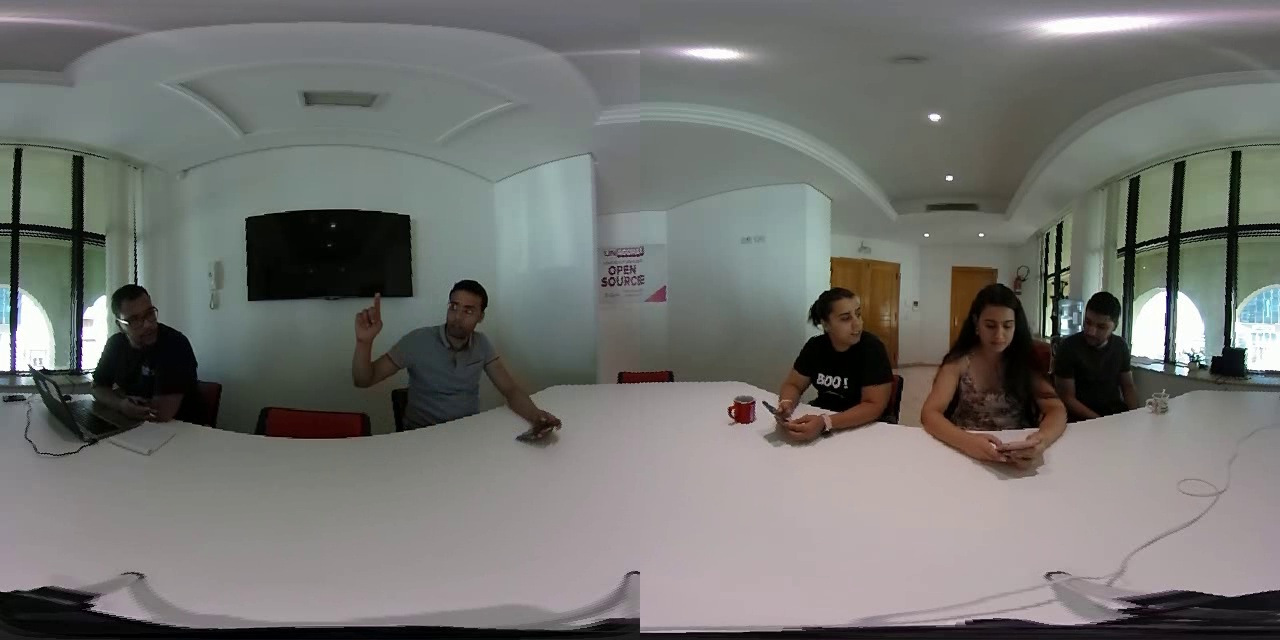person: (350, 266, 514, 435), (764, 273, 899, 440), (914, 276, 1047, 445), (87, 279, 213, 431), (1055, 287, 1142, 409)
speaking: (352, 276, 400, 393)
